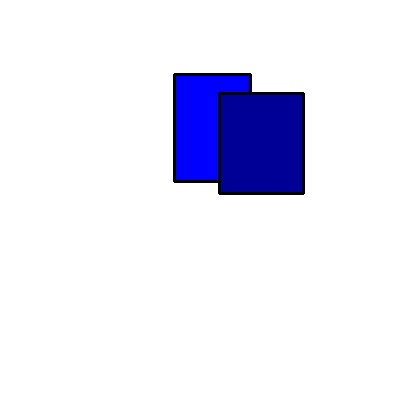rectangle: (219, 93, 303, 193), (174, 74, 250, 181)
